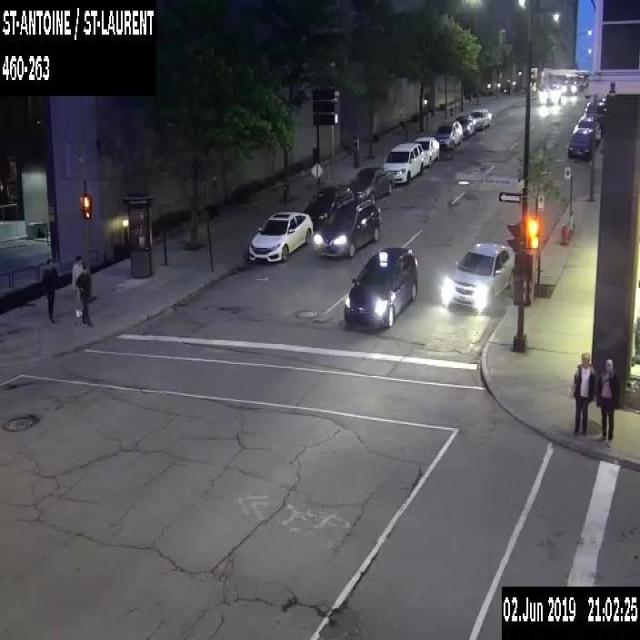bus: (540, 66, 588, 89)
pedestrian: (572, 349, 594, 437), (596, 357, 618, 445), (75, 263, 96, 326), (40, 256, 58, 321), (70, 252, 83, 317)
vehicle: (343, 246, 417, 330), (442, 239, 514, 309), (312, 198, 380, 256), (248, 210, 312, 262), (303, 184, 354, 232), (381, 141, 423, 184), (349, 166, 393, 202), (567, 128, 597, 160), (414, 135, 439, 167), (434, 120, 462, 148), (572, 115, 602, 138), (583, 100, 604, 126), (468, 108, 492, 130), (537, 84, 560, 104), (456, 114, 476, 137), (561, 79, 576, 94)
